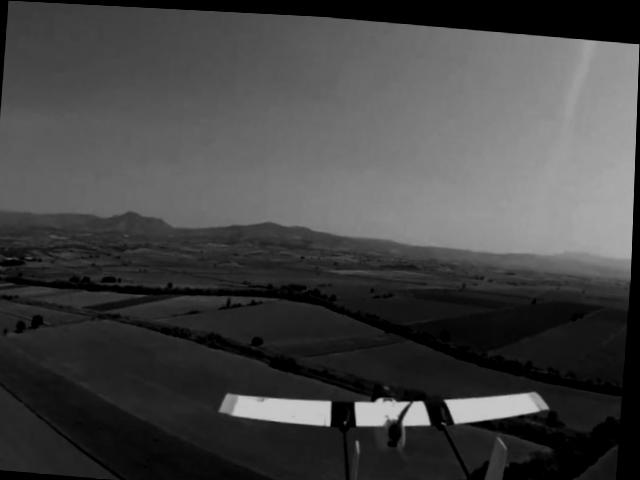hedef: (214, 353, 562, 480)
